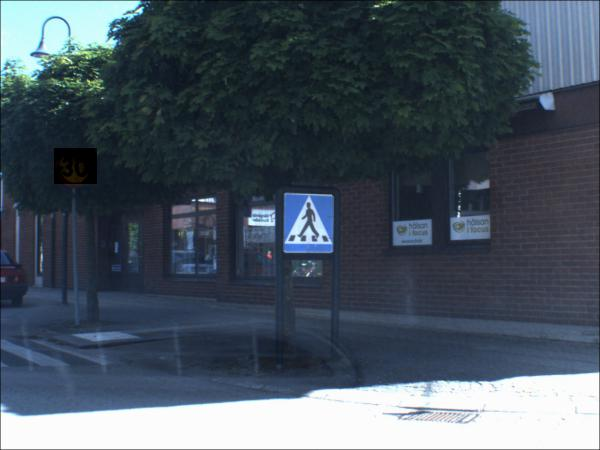30_SIGN: (55, 149, 99, 186)
PEDESTRIAN_CROSSING: (286, 195, 334, 253)
